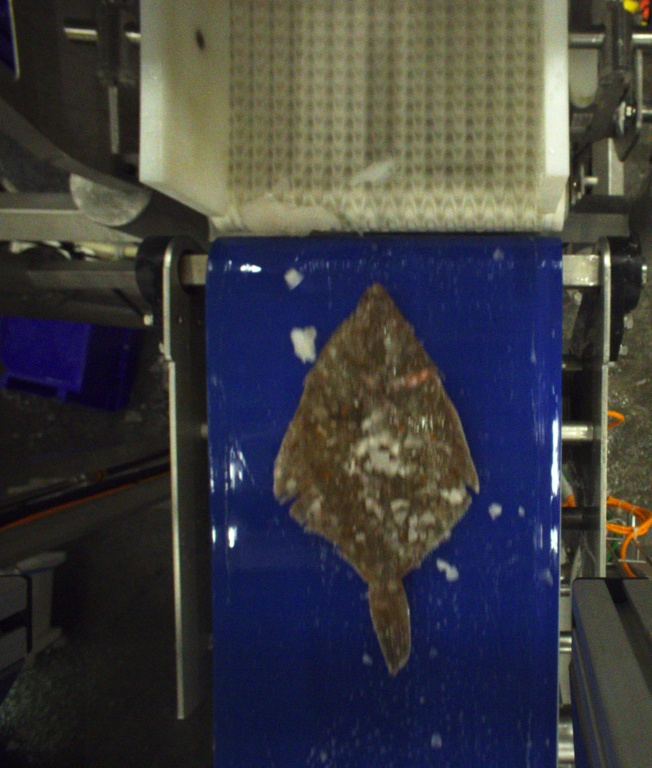PLE: (271, 279, 478, 678)
